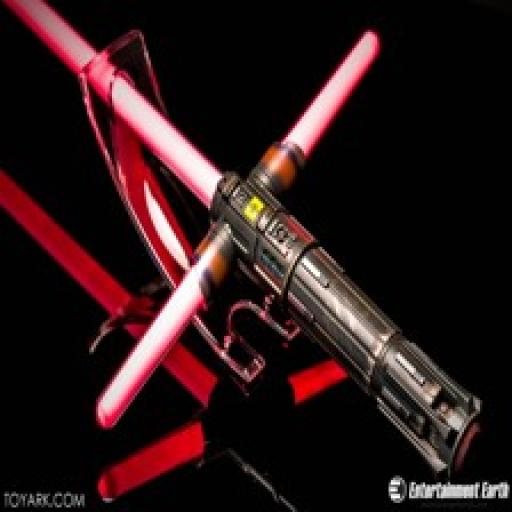sith saber: (0, 0, 503, 487)
